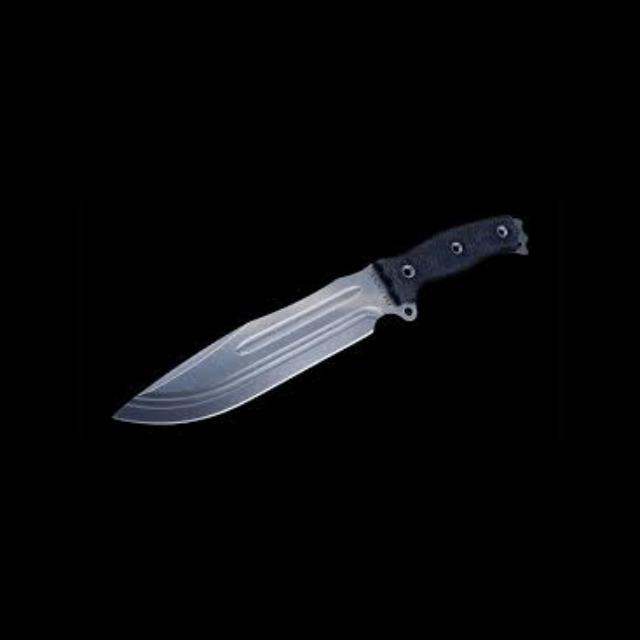Knife: (110, 214, 528, 426)
